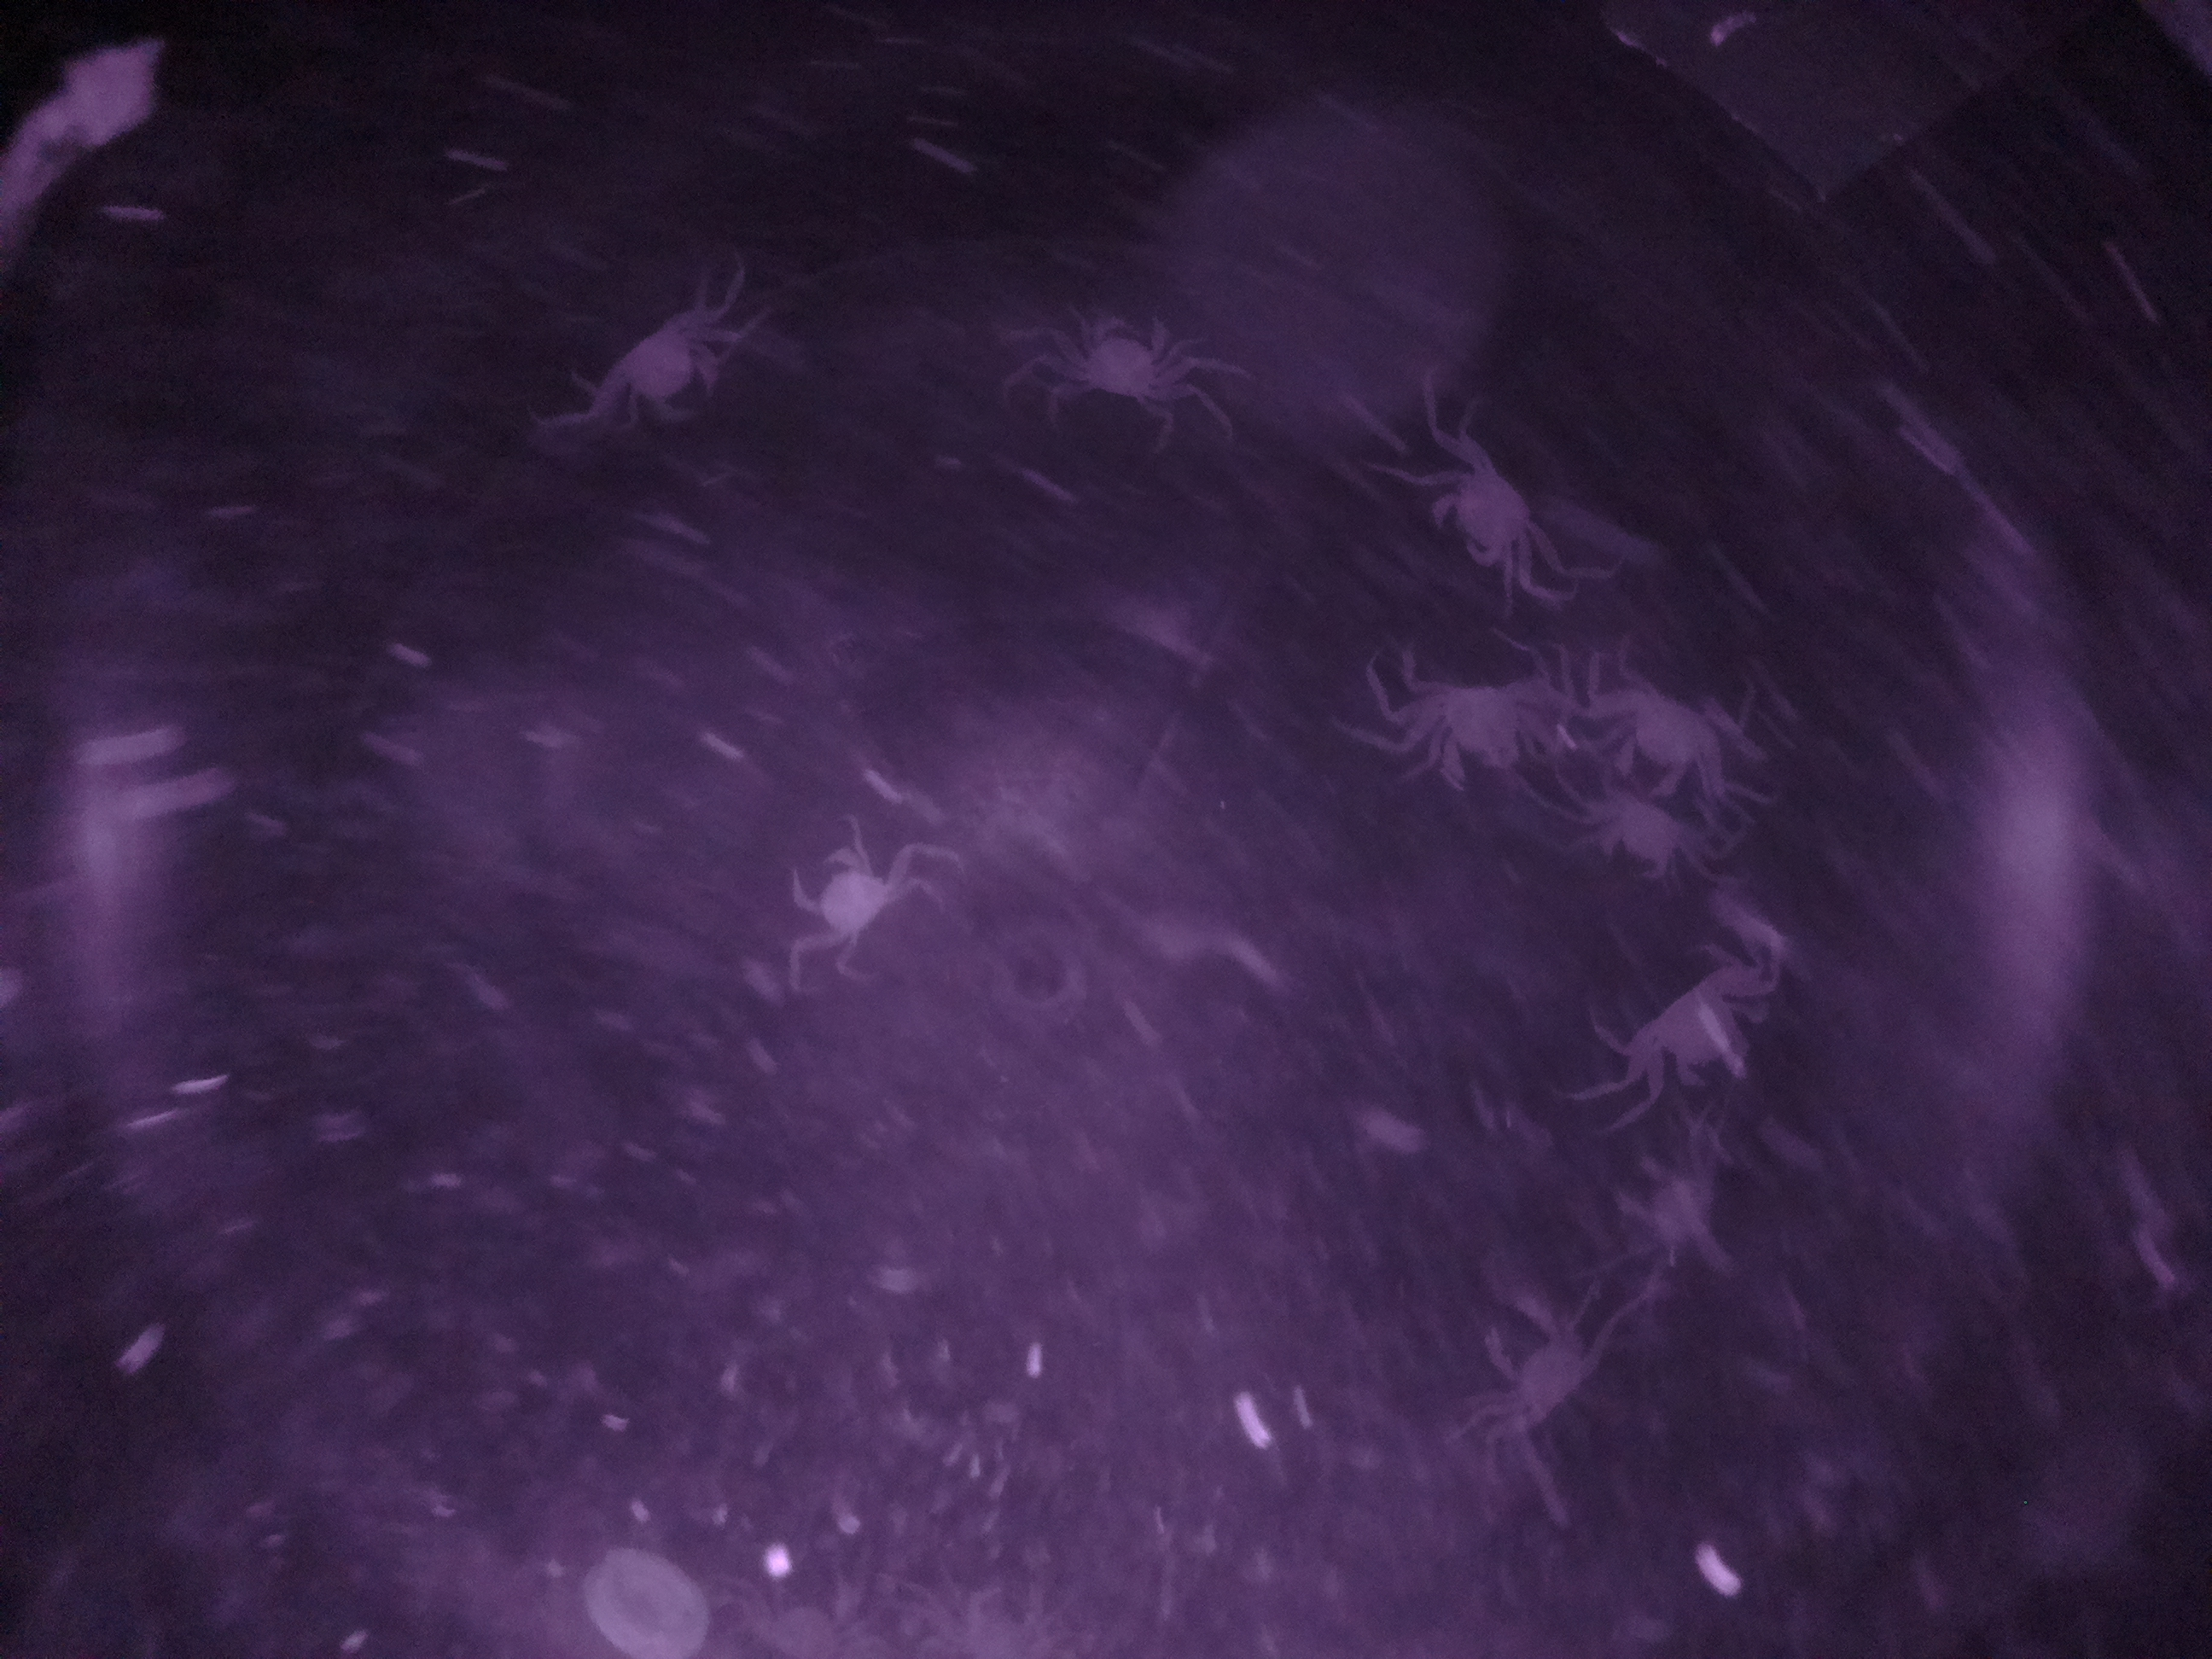Crab: (1604, 653, 1738, 823), (1418, 437, 1555, 589), (1042, 301, 1209, 425), (1409, 674, 1548, 796)
